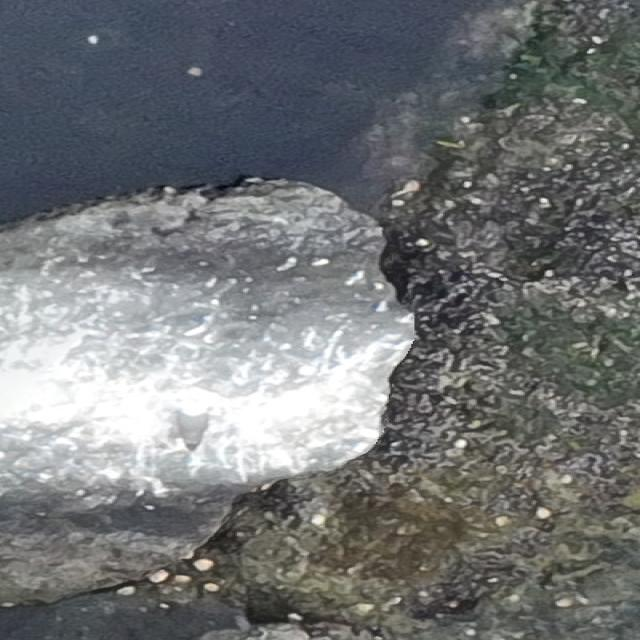umineko: (174, 399, 207, 448)
